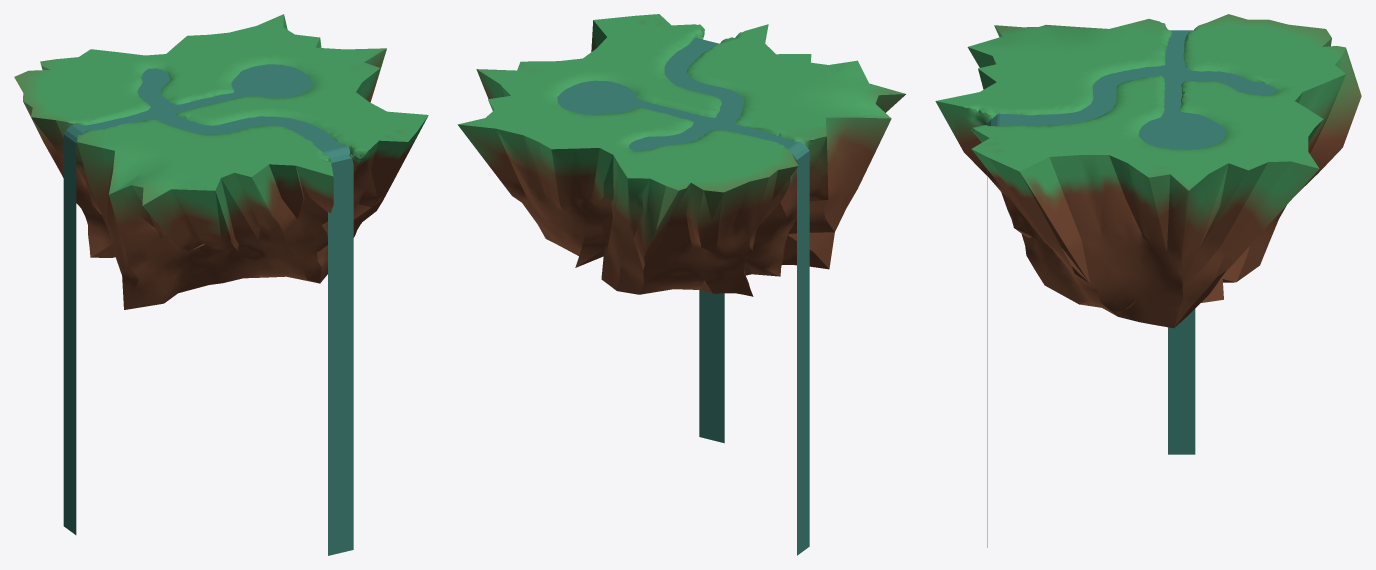
Rendered from Island3.fbx.
The picture shows the model from 3 angles, left to right: view 1: azimuth 30°, elevation 25°; view 2: azimuth 150°, elevation 25°; view 3: azimuth 270°, elevation 25°; orthographic projection. The views are drawn at different scales.
Parts seen in each view (by area): view 1: Island, Island.001; view 2: Island, Island.001; view 3: Island, Island.001.
Part boxes in pixels (x1,y1,x2,y2): Island: (14,14,428,309); Island.001: (63,64,353,555); Island: (457,14,905,296); Island.001: (557,37,809,555); Island: (935,14,1361,328); Island.001: (987,30,1277,547).
Size of the model in its own units: 14324 by 15952 by 14280.
Materials: 1 (1 with a texture image).
